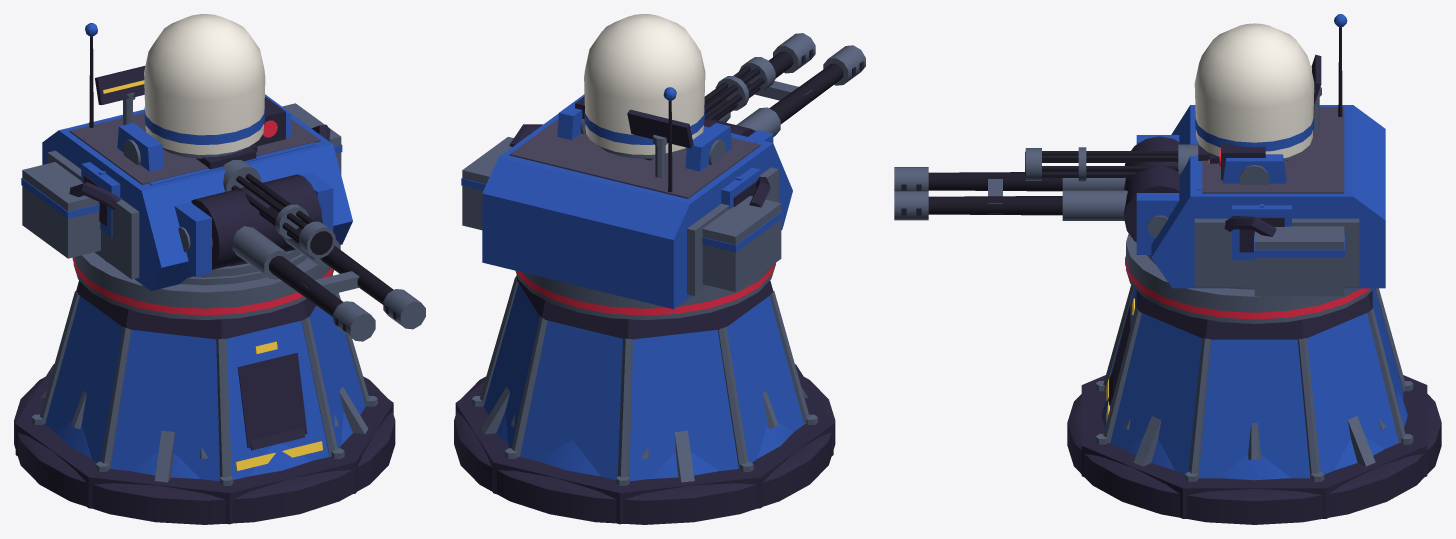
Rendered from turret.glb.
3 renders of one model, left to right at view 1: azimuth 30°, elevation 25°; view 2: azimuth 150°, elevation 25°; view 3: azimuth 270°, elevation 25°, orthographic.
Visible parts, largest first — view 1: ta_head, ta_base_body_1, tb_head_white_6, tb_base_dark_3, ta_base_dark_4, ta_base_steel_10, ta_base_steel_8, ta_head_dark_1, ta_base_dark_2, ta_base_dark_3, tb_head, ta_head_steel_3 (+14 smaller); view 2: ta_head, ta_base_body_1, tb_base_dark_3, tb_head_white_6, ta_base_dark_4, ta_base_steel_8, ta_base_dark_3, ta_base_steel_10, tb_head, tb_base_body_1, ta_head_steel_3, ta_head_tire_5 (+8 smaller); view 3: ta_head, ta_base_body_1, tb_base_dark_3, tb_head_white_6, ta_base_dark_4, ta_base_steel_8, ta_base_steel_10, ta_head_tire_5, ta_base_dark_3, tb_head, ta_head_steel_4, tb_head_tire_17 (+8 smaller).
Part boxes in pixels (x1,y1,x2,y2): ta_head: [21, 23, 352, 290]; ta_base_body_1: [45, 294, 365, 481]; tb_head_white_6: [144, 14, 265, 154]; tb_base_dark_3: [14, 376, 395, 524]; ta_base_dark_4: [15, 364, 393, 524]; ta_base_steel_10: [73, 252, 333, 319]; ta_base_steel_8: [40, 291, 369, 477]; ta_head_dark_1: [191, 174, 322, 269]; ta_base_dark_2: [238, 353, 307, 448]; ta_base_dark_3: [76, 275, 332, 339]; tb_head: [81, 94, 301, 277]; ta_head_steel_3: [302, 271, 425, 341]; ta_head: [461, 87, 792, 309]; ta_base_body_1: [483, 283, 804, 481]; tb_base_dark_3: [454, 376, 835, 524]; tb_head_white_6: [584, 14, 705, 154]; ta_base_dark_4: [455, 364, 833, 524]; ta_base_steel_8: [480, 277, 809, 477]; ta_base_dark_3: [516, 275, 773, 339]; ta_base_steel_10: [515, 263, 775, 319]; tb_head: [557, 94, 760, 209]; tb_base_body_1: [489, 411, 793, 479]; ta_head_steel_3: [754, 33, 865, 106]; ta_head_tire_5: [731, 51, 843, 124]; ta_head: [1136, 14, 1385, 296]; ta_base_body_1: [1106, 288, 1403, 478]; tb_base_dark_3: [1067, 394, 1441, 524]; tb_head_white_6: [1194, 23, 1314, 158]; ta_base_dark_4: [1081, 375, 1427, 518]; ta_base_steel_8: [1103, 285, 1405, 477]; ta_base_steel_10: [1126, 234, 1373, 323]; ta_head_tire_5: [928, 172, 1062, 215]; ta_base_dark_3: [1136, 290, 1372, 339]; tb_head: [1223, 154, 1291, 260]; ta_head_steel_4: [1062, 178, 1127, 220]; tb_head_tire_17: [1042, 151, 1178, 177].
Bounding box in the file's own units: 5 × 6.14 × 7.31.
